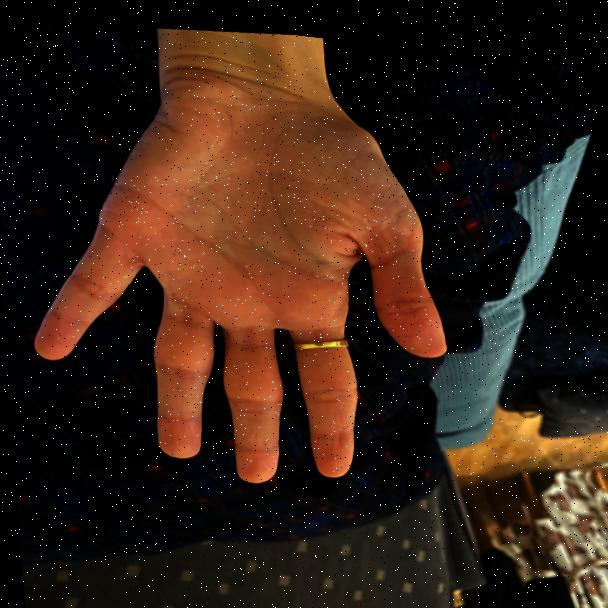five: (9, 32, 463, 517)
